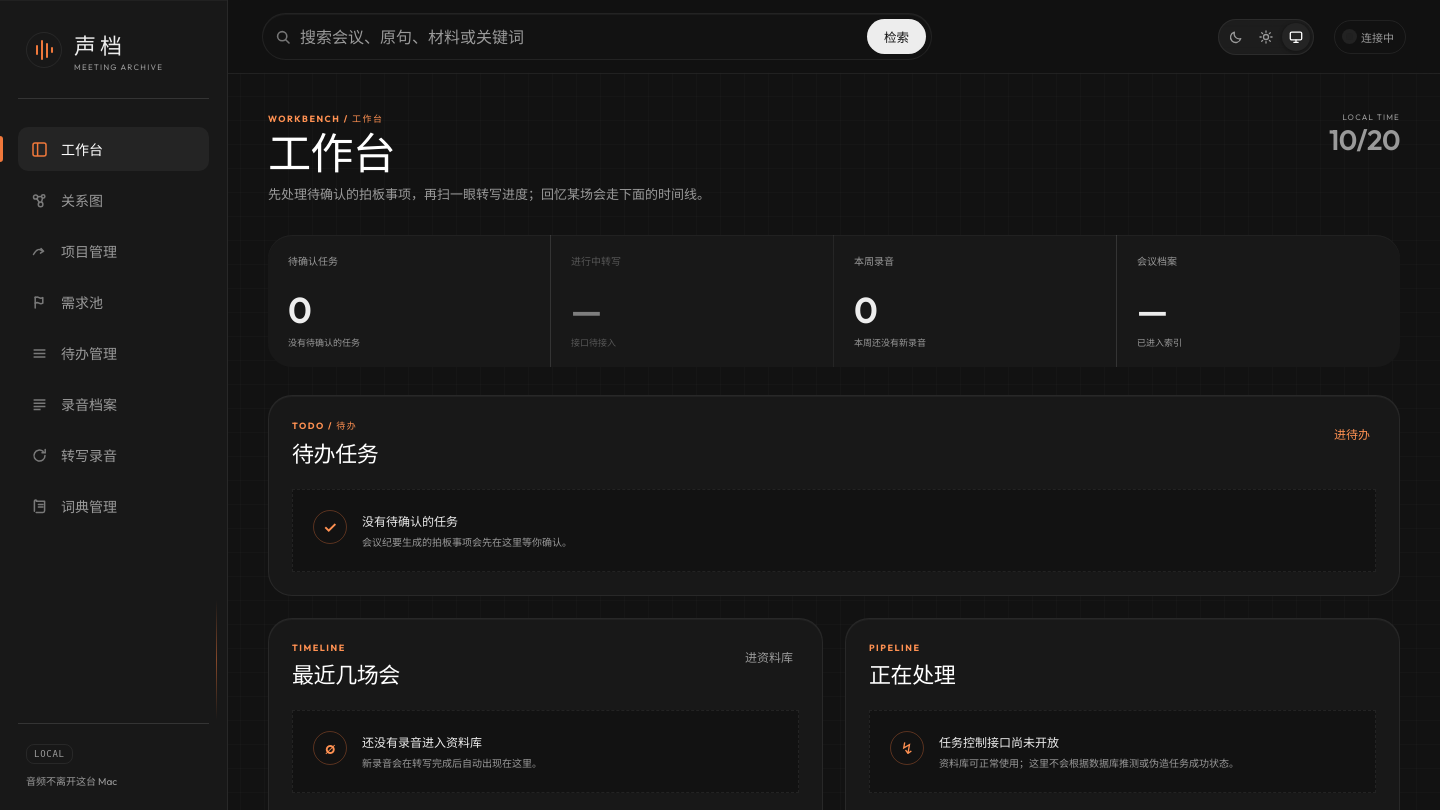
Test: 地址栏锚点直达 › 冷加载带 #library、启动接口还没回时就提交了检索：启动完成后检索结果还在，底下的视图和地址栏仍是录音档案
Type "接口清单" into the field named "全局检索".
click(576, 36); type("接口清单")  # box x1=290 y1=20 x2=861 y2=54
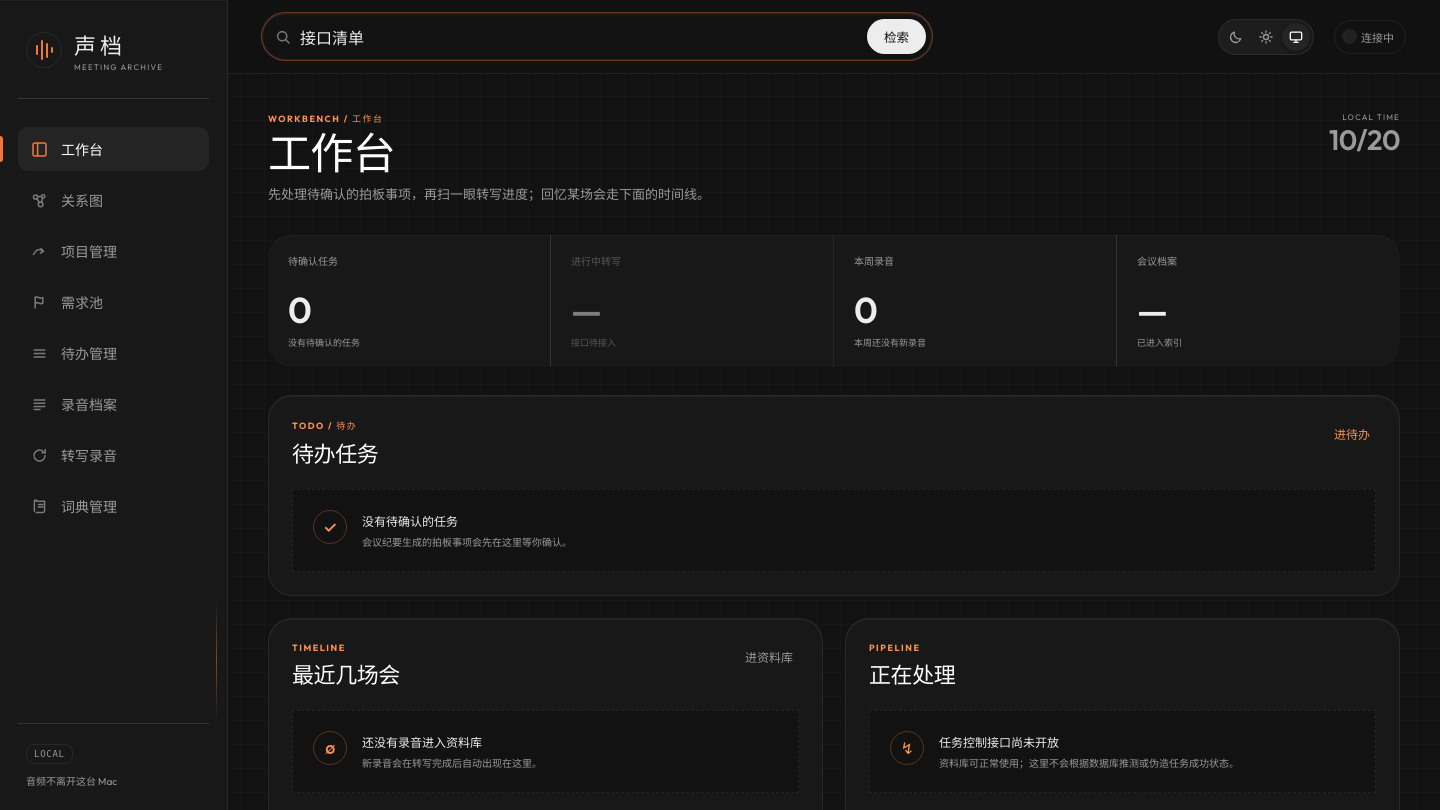
Click the button "检索".
click(896, 36)  # box x1=867 y1=19 x2=926 y2=54
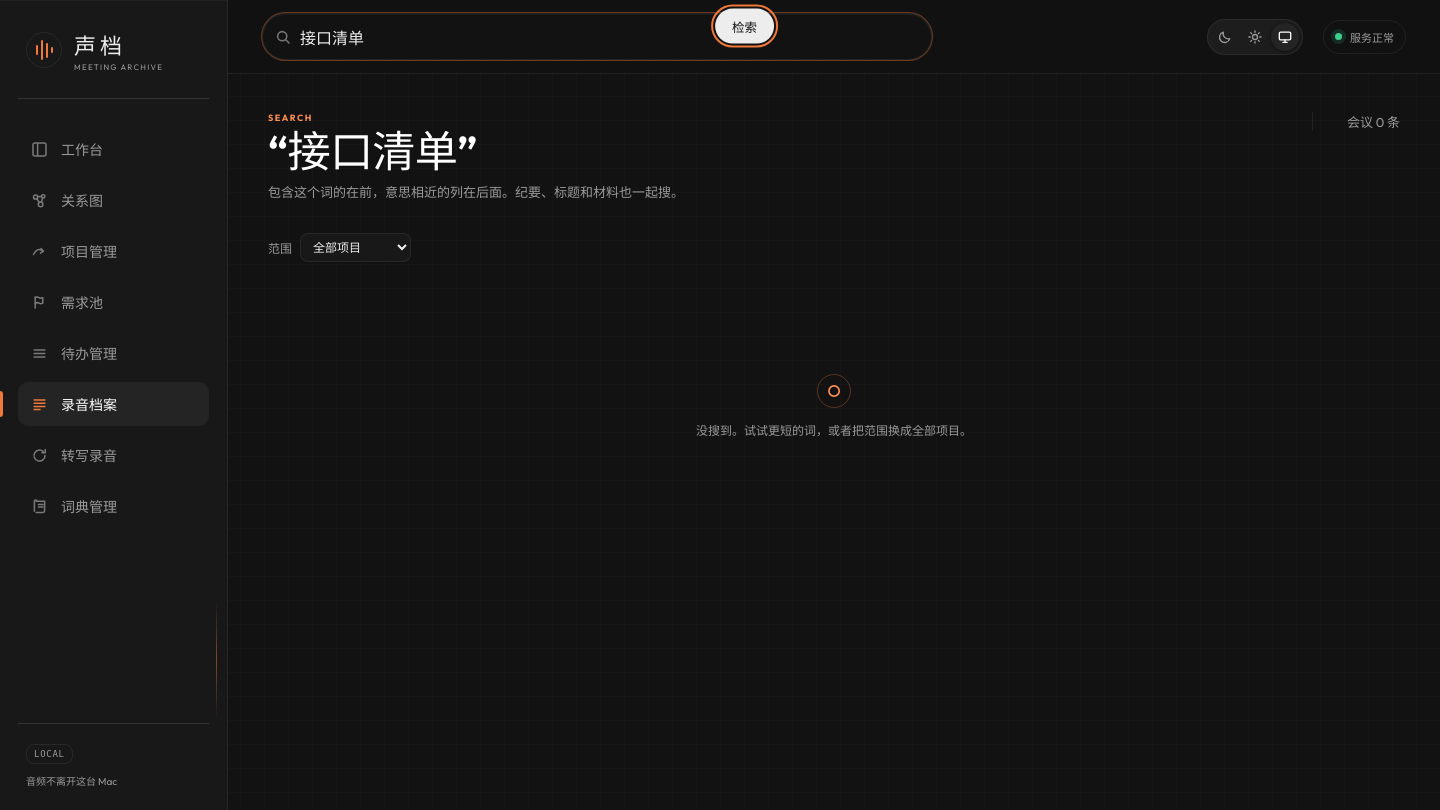
Expected: the button "录音档案" is shown, x1=18 y1=382 x2=209 y2=426
Expected: the heading "“接口清单”" is shown, x1=268 y1=124 x2=476 y2=178
